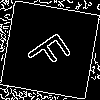F: (25, 25, 80, 76)
